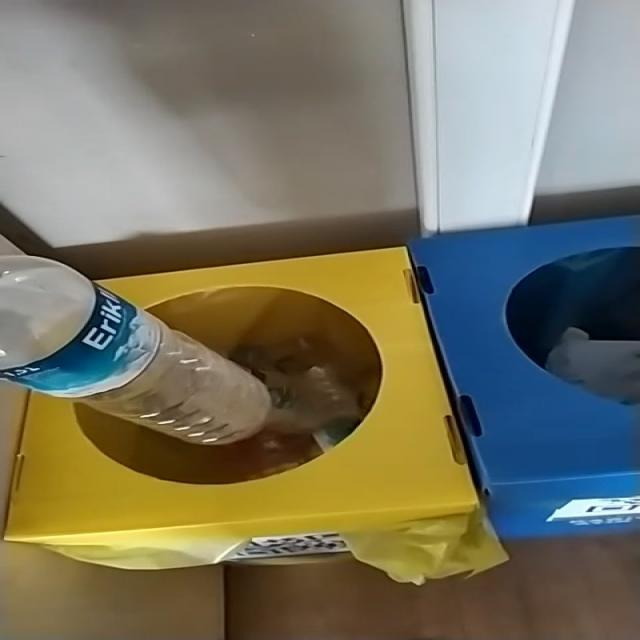Plastic: (1, 257, 271, 445)
